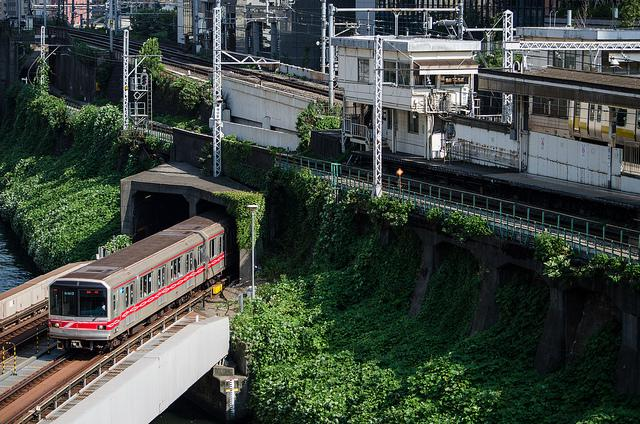Train: (45, 213, 230, 364)
